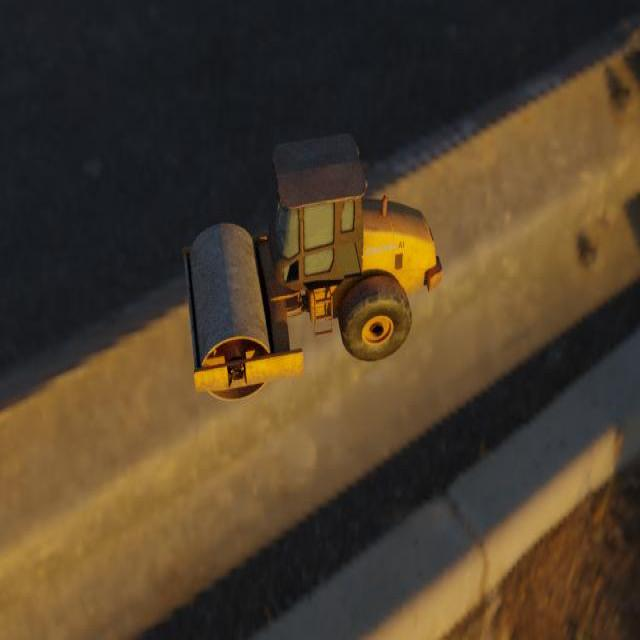Roller: (181, 132, 442, 401)
